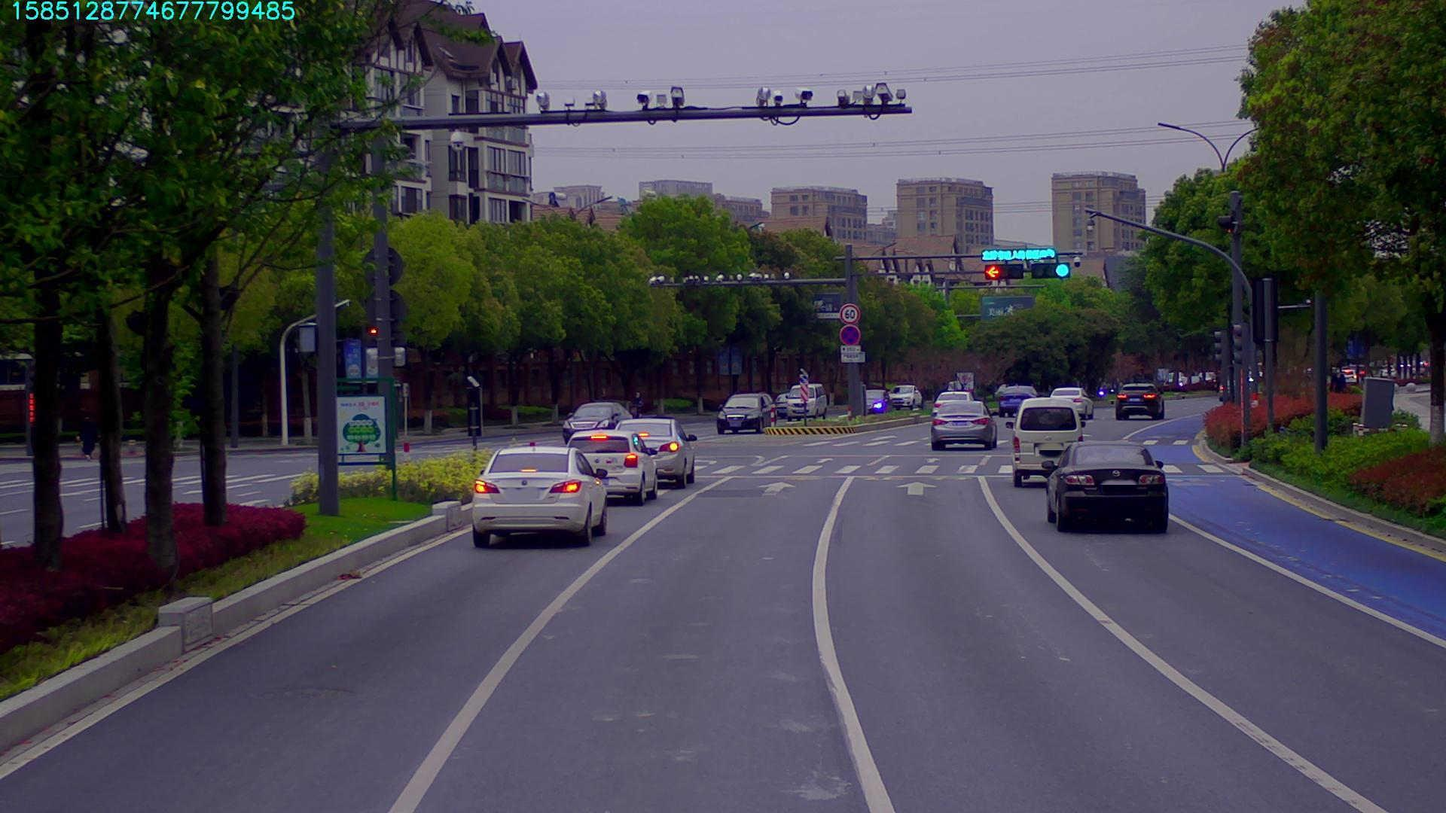green: (1036, 262, 1070, 276)
red: (987, 266, 1023, 278)
wait_on: (984, 246, 1054, 261)
